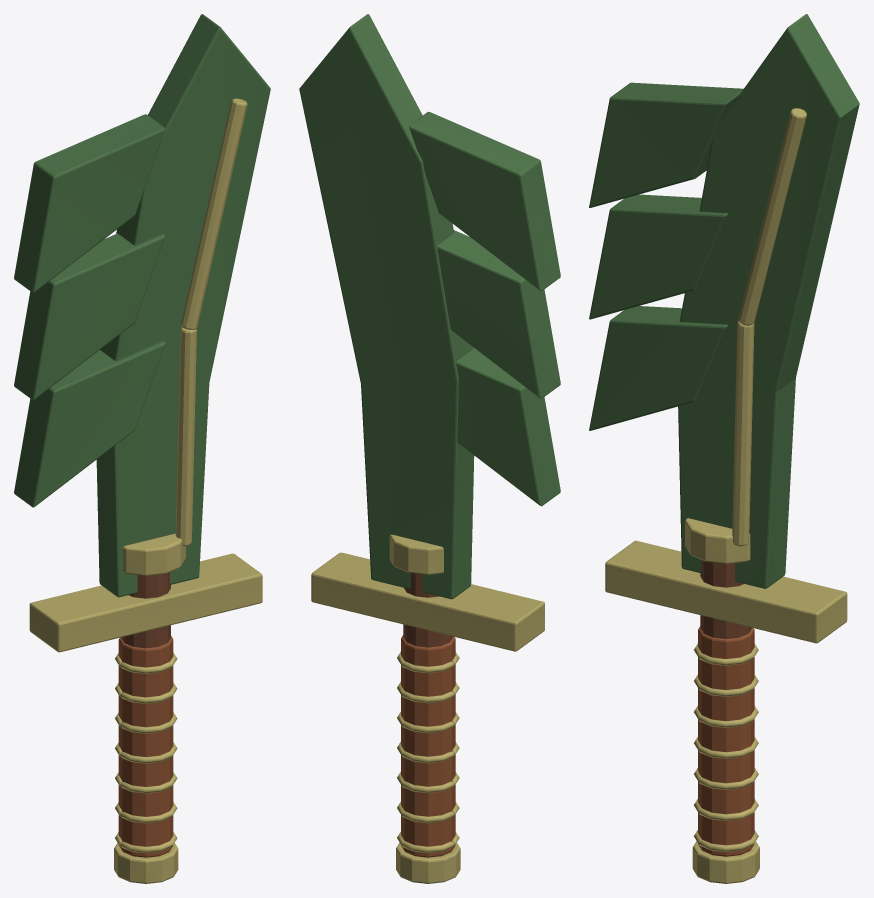
File: item_001.glb
3 renders of one model, left to right at view 1: azimuth 30°, elevation 25°; view 2: azimuth 150°, elevation 25°; view 3: azimuth 330°, elevation 25°, orthographic. The views are drawn at different scales.
Visible parts, largest first — view 1: Item_001_thorn_hook; view 2: Item_001_thorn_hook; view 3: Item_001_thorn_hook.
Part boxes in pixels (x1,y1,x2,y2): Item_001_thorn_hook: (14, 14, 270, 883); Item_001_thorn_hook: (299, 14, 560, 883); Item_001_thorn_hook: (589, 14, 859, 883).
Bounding box in the file's own units: 0.4693 × 1.55 × 0.1344.
